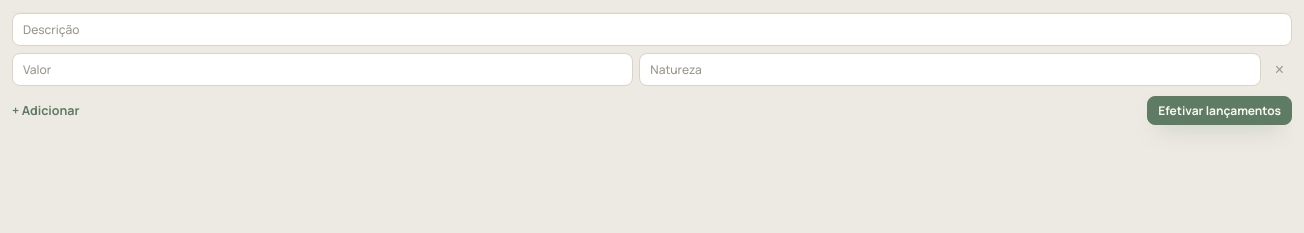
Test: FormVR — adicionar/remover linhas (TL-69, TL-70) › clicar no botão de remover uma linha remove exatamente aquela despesa, preservando as demais
Click the button "+ Adicionar". click: click(46, 110)
box: [12,102,80,119]
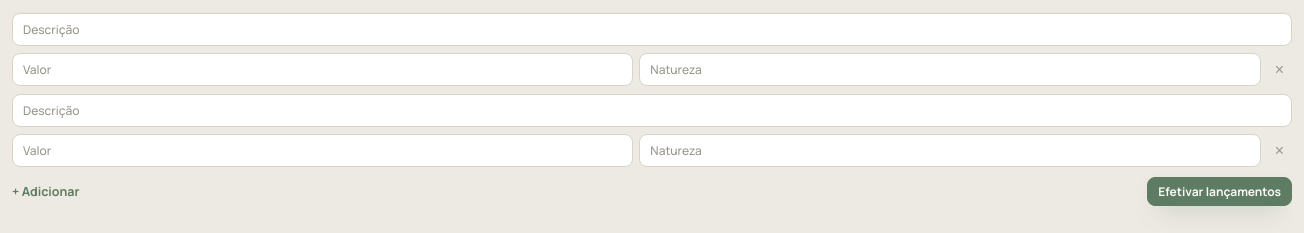
Type "10" into the field named "Valor da despesa 1". click: (323, 70)
box: [12,53,633,86]
Type "ALM" into the field named "Natureza da despesa 1". click: (950, 70)
box: [639,53,1261,86]
Type "Mercado" into the field named "Descrição da despesa 1". click: (652, 30)
box: [12,13,1292,46]
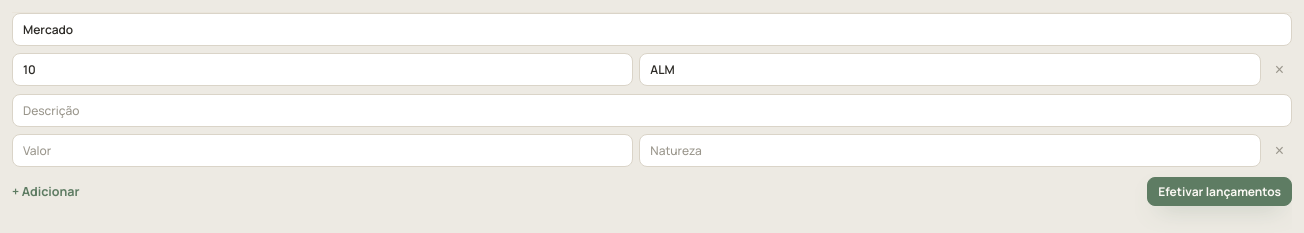
Type "20" into the field named "Valor da despesa 2". click: (323, 150)
box: [12,134,633,167]
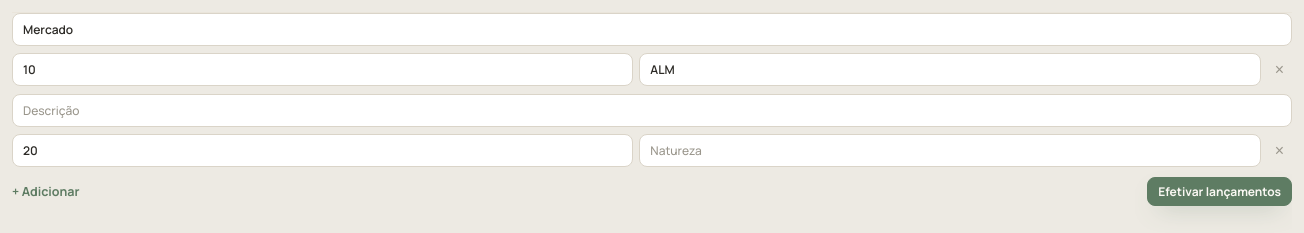
Type "TRN" into the field with placeholder "Natureza". click: (950, 150)
box: [639,134,1261,167]
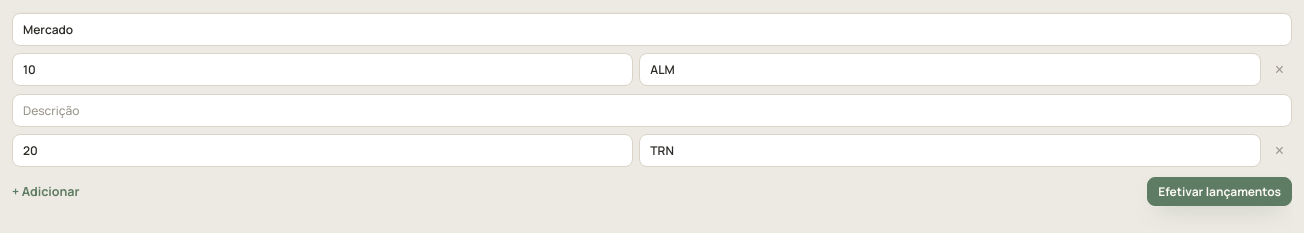
Type "Ônibus" into the field with placeholder "Descrição". click: (652, 110)
box: [12,94,1292,127]
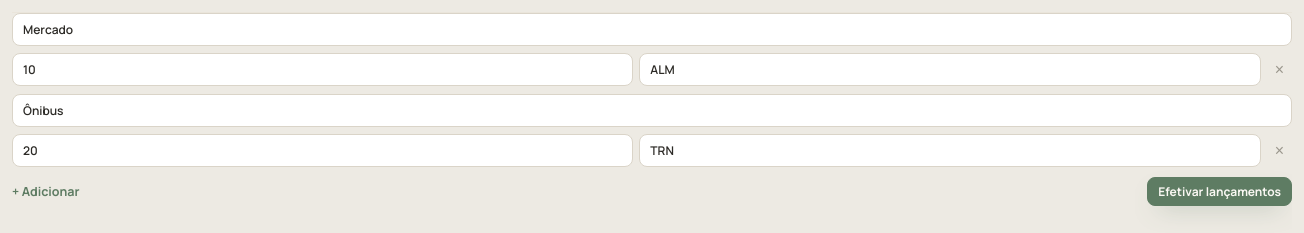
Click the button named "Remover despesa 1". click: click(1279, 70)
box: [1267,58,1292,82]
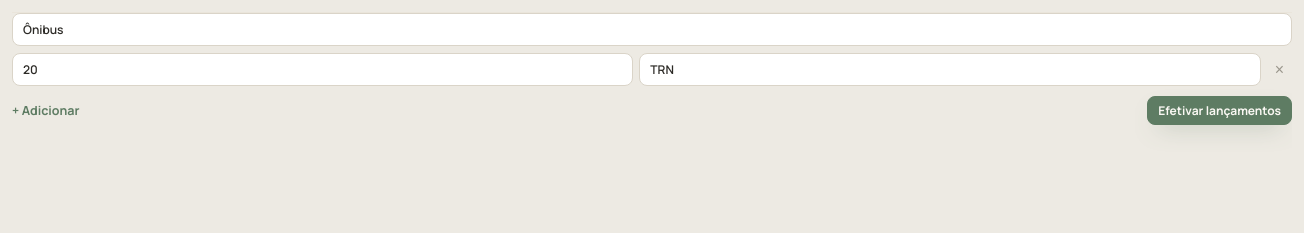
Result: the field named "Valor da despesa 1" holds "20" at [12,53,633,86]
Result: the field named "Natureza da despesa 1" holds "TRN" at [639,53,1261,86]
Result: the field named "Descrição da despesa 1" holds "Ônibus" at [12,13,1292,46]
